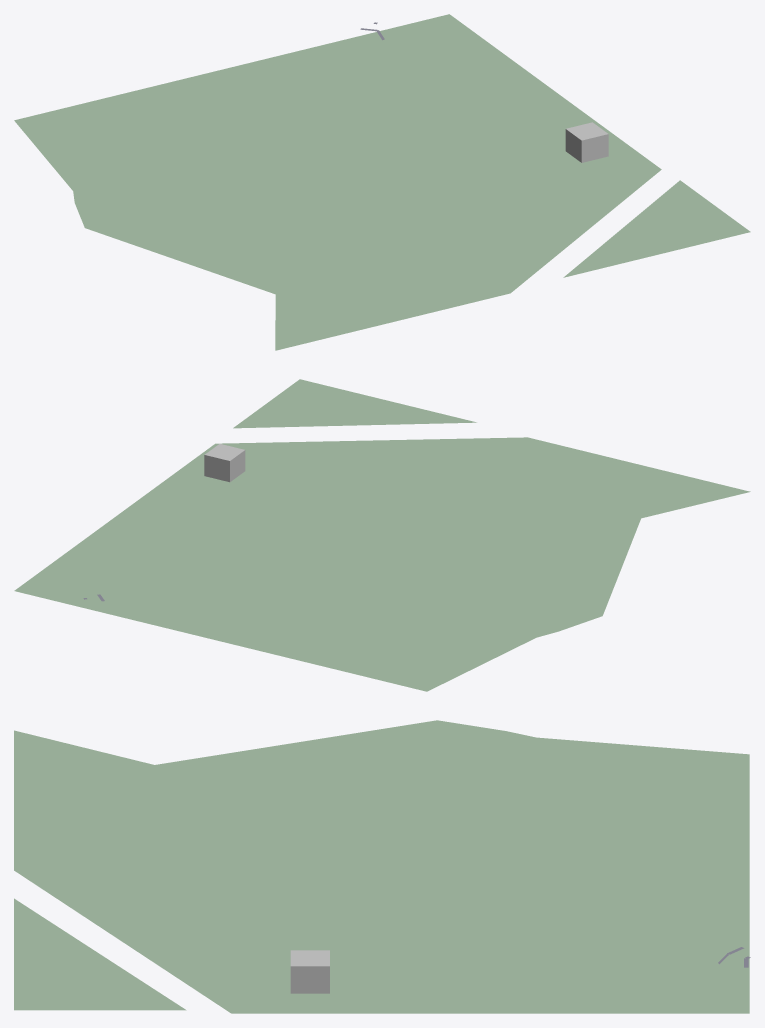
Rendered from 128_77_mid.glb.
3 renders of one model, top to bottom at view 1: azimuth 30°, elevation 25°; view 2: azimuth 150°, elevation 25°; view 3: azimuth 270°, elevation 25°, orthographic. The views are drawn at different scales.
Size of the model in its own units: 472 by 22.67 by 501.
